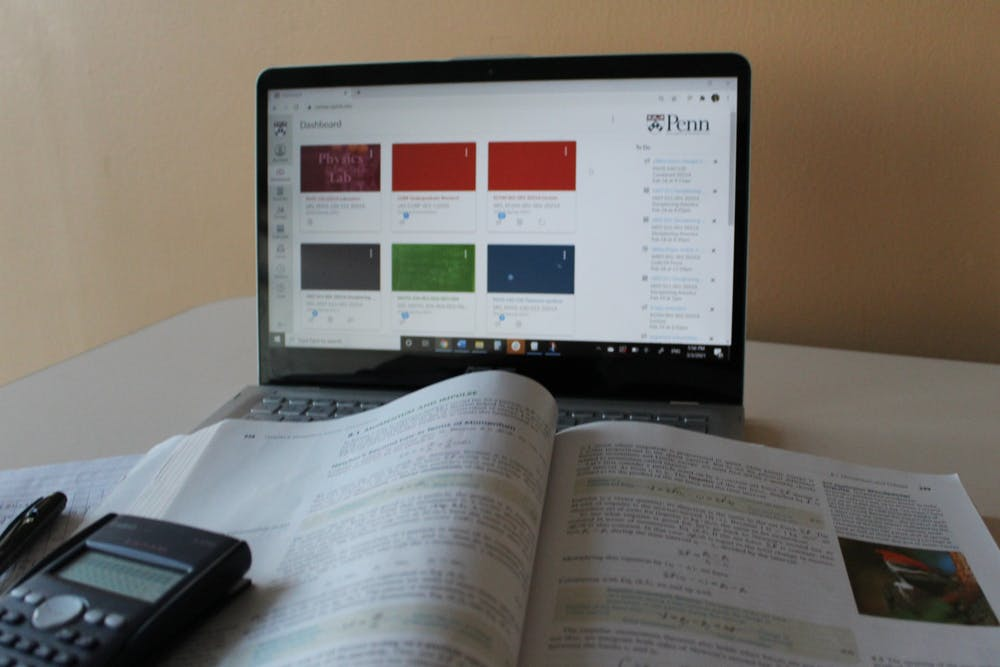Open Book: (154, 389, 1000, 667)
